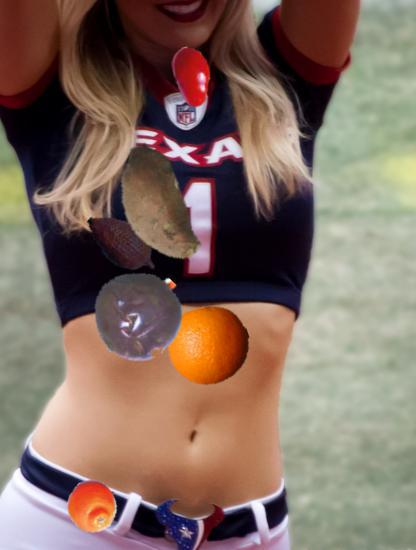Orange: (168, 305, 250, 387)
Passion: (91, 266, 186, 361)
Potato: (90, 141, 218, 269)
Salak: (81, 202, 165, 286)
Tangelo: (66, 479, 120, 533)
Tomato: (162, 46, 224, 108)
